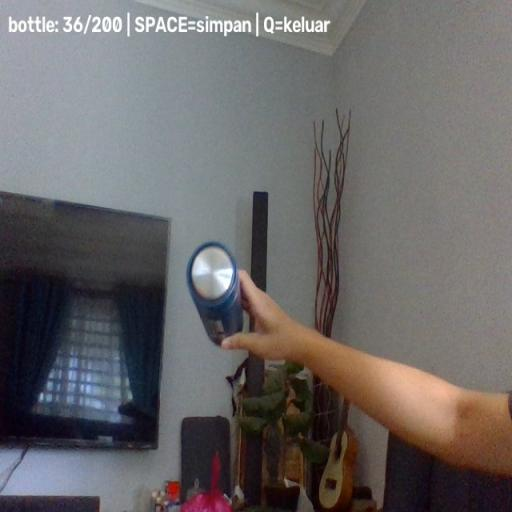Bottle: (186, 241, 244, 347)
